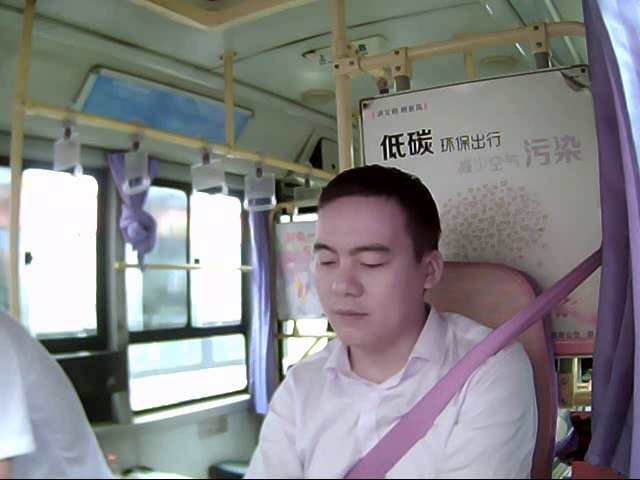closed_eye: (353, 256, 391, 271), (308, 255, 340, 271)
closed_mouth: (326, 306, 369, 324)
